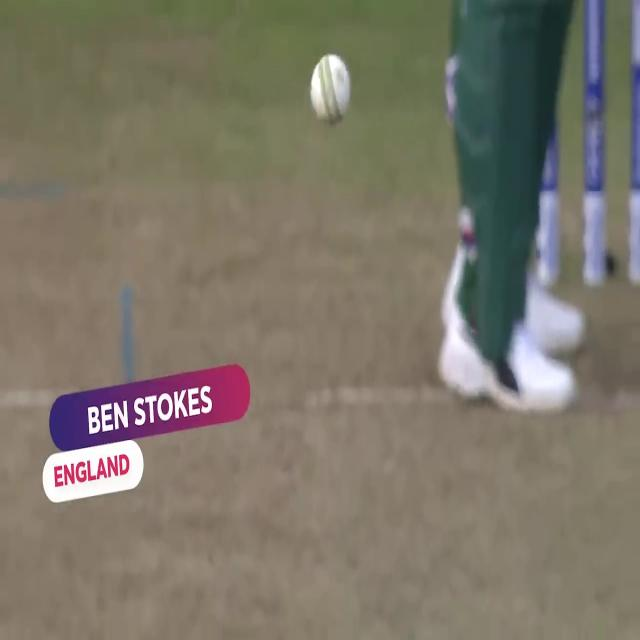ball: (308, 48, 355, 126)
